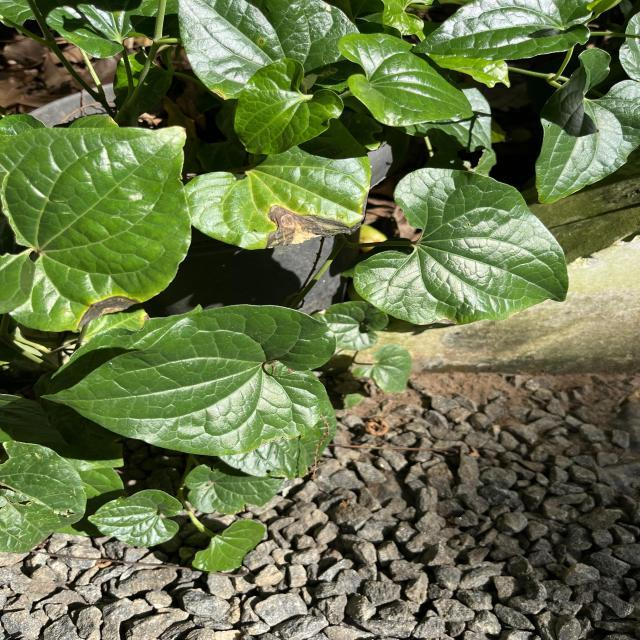Piper longum: (36, 302, 338, 459), (350, 166, 571, 327), (532, 45, 640, 206), (336, 30, 478, 128), (230, 56, 346, 158)
